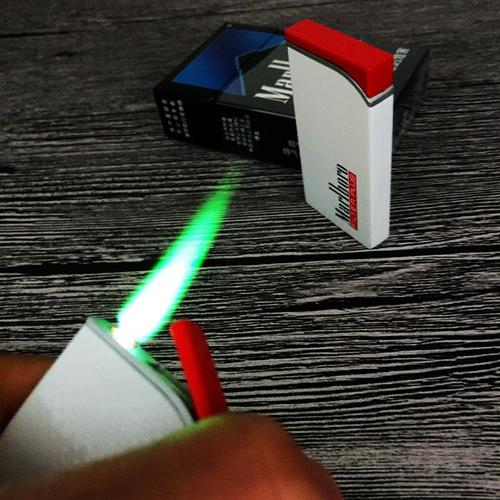fire: (102, 164, 248, 344)
